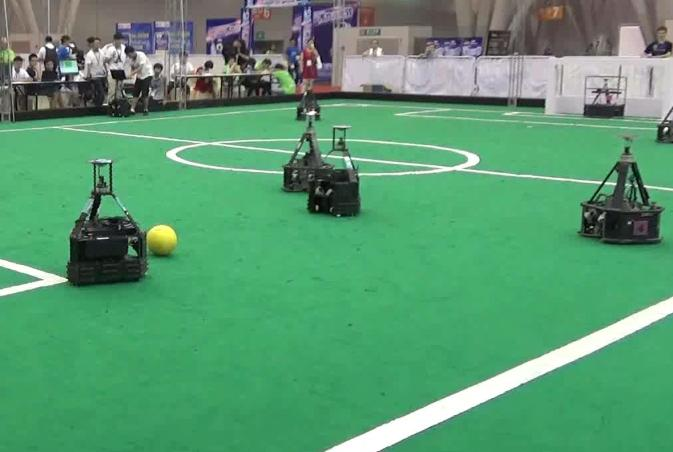robot: (60, 157, 154, 286), (577, 124, 665, 248), (308, 117, 365, 218), (276, 111, 330, 195)
